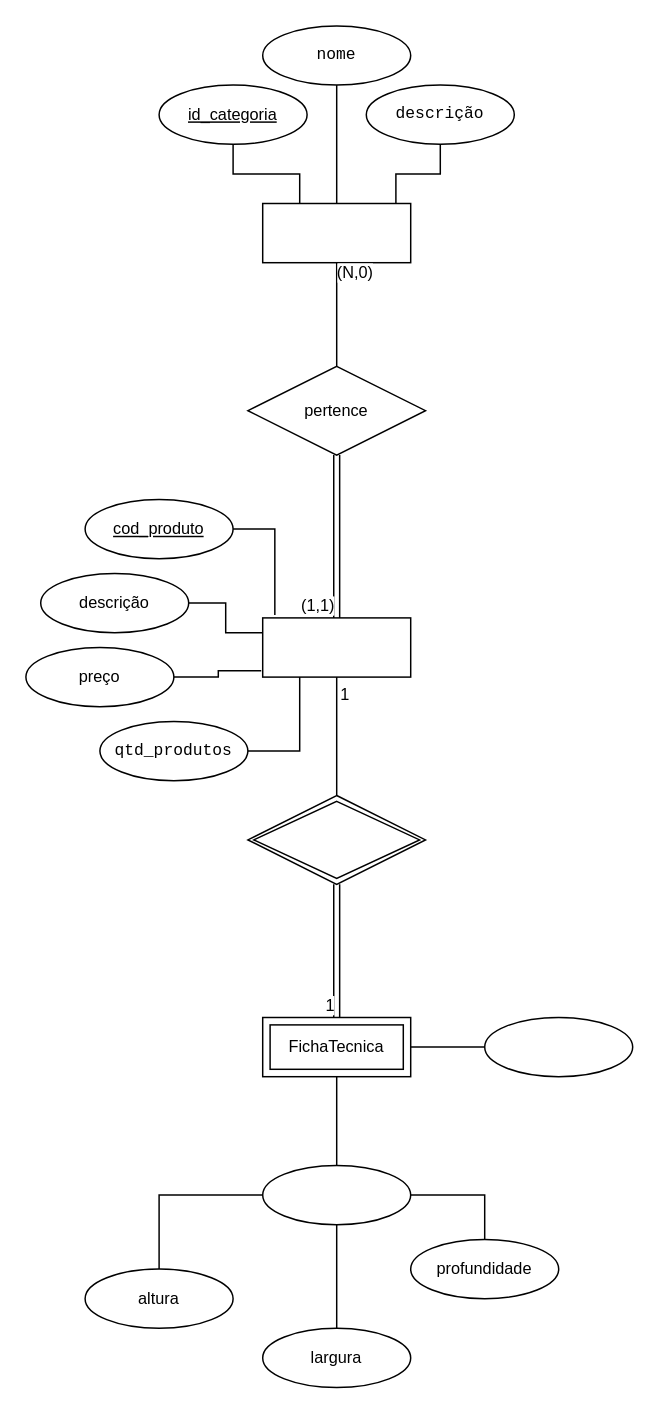
Image size: 659x1413. Some labels were removed from this diagram. The shapes that lost their labels are listed below. From the top down, each one's box as (x1, y1, x2, y2) in pixels, then its label:
(261, 202, 411, 263): Categoria
(261, 616, 411, 677): Produto
(246, 794, 426, 884): possui
(483, 1016, 633, 1077): peso
(261, 1164, 411, 1225): dimensões
